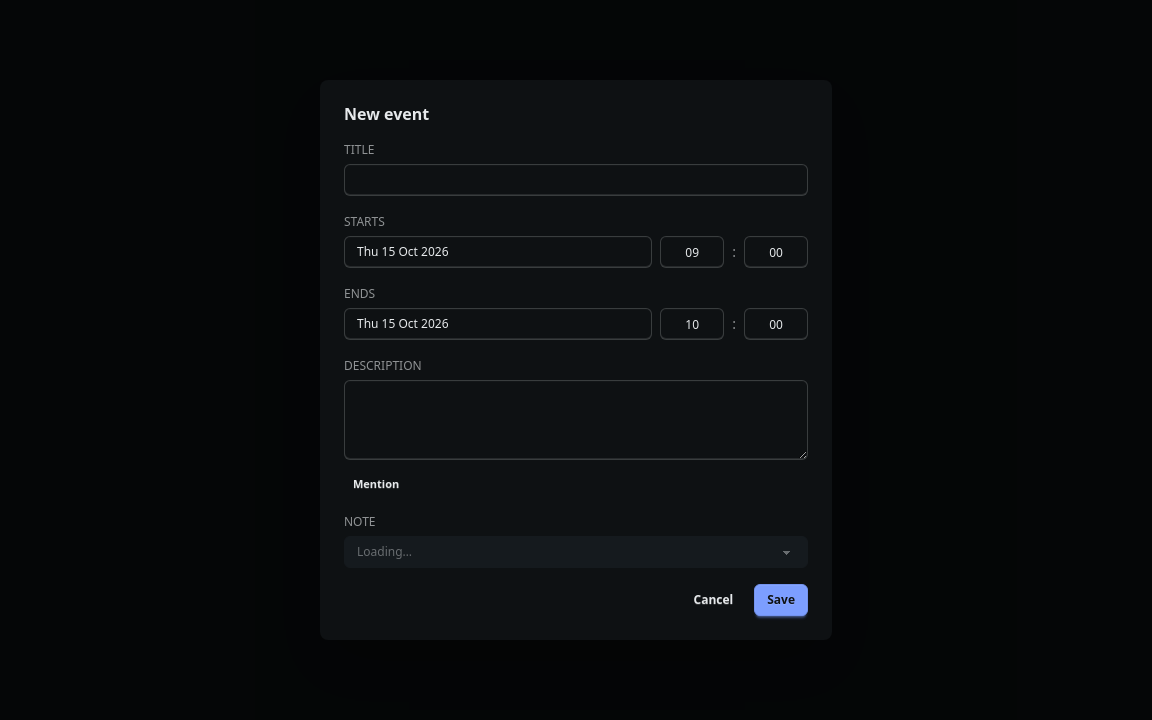
EventForm › inserts a mention token into the description at the caret
This screenshot has width=1152, height=720.
Type "Meet  now" into the text box labelled "Description" at (576, 420), box [344,380,808,460]
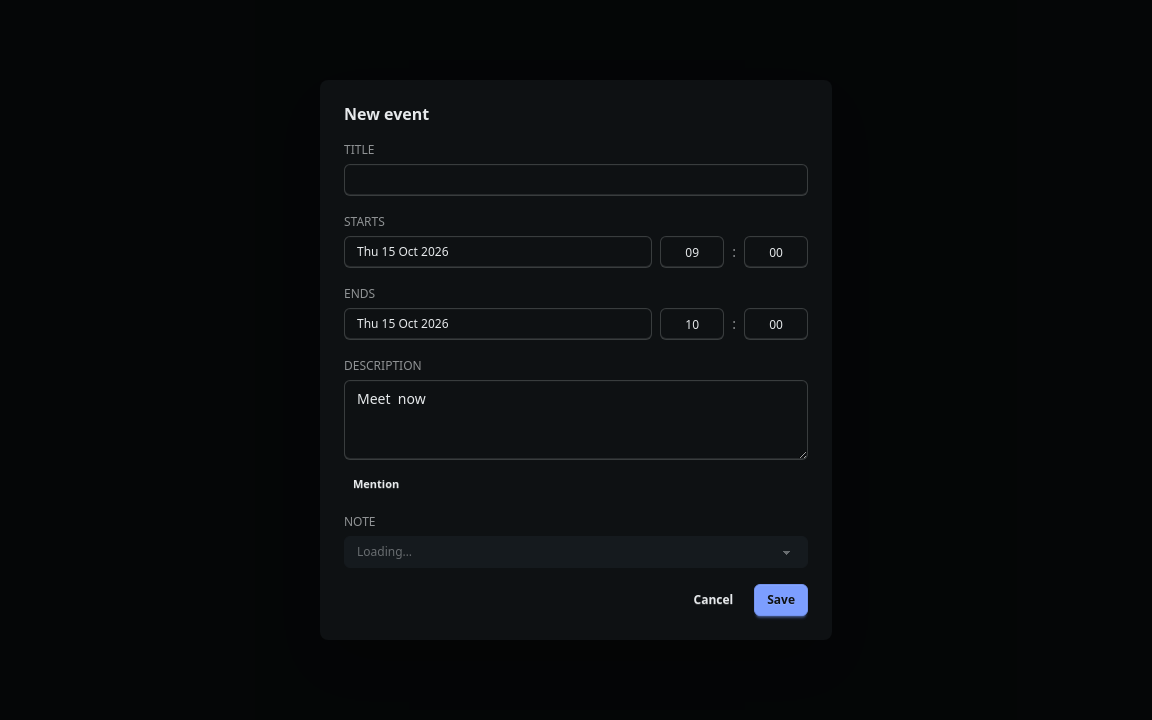
Click the button "Mention" at (376, 484), box [344,472,408,496]
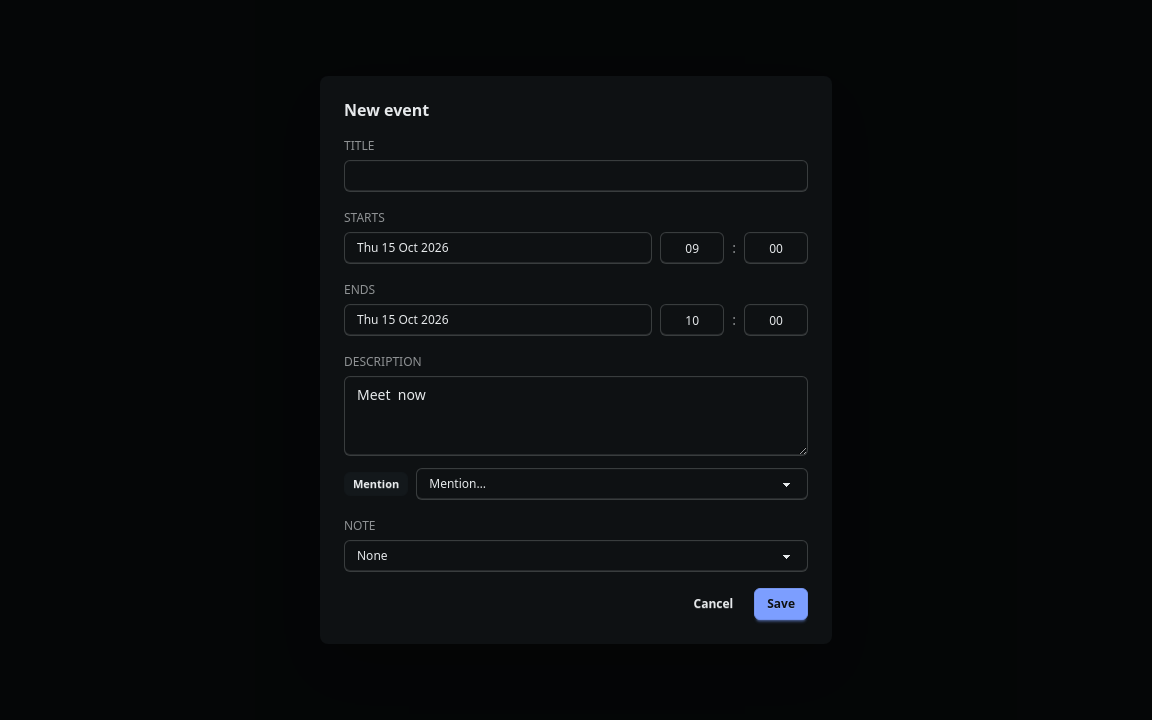
Select "Buy keyboard" in the dropdown named "Insert mention" at (612, 484), box [416,468,808,500]
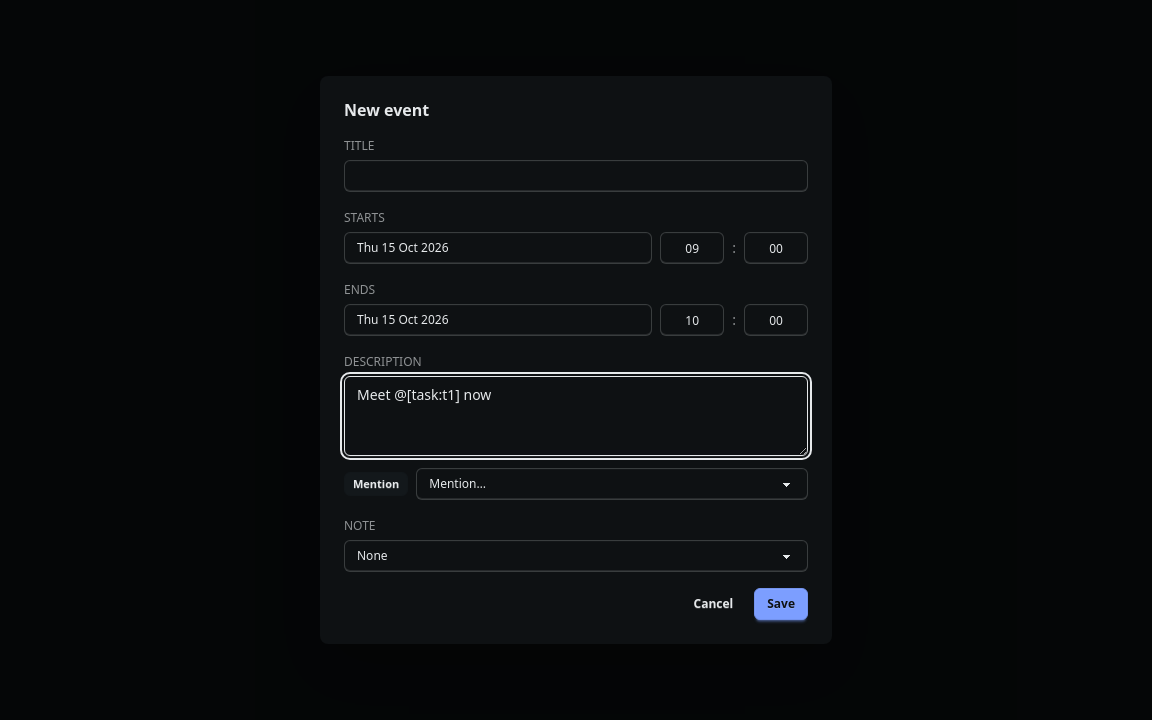
expect the text box labelled "Description" holds "Meet @[task:t1] now": met, box [344,376,808,456]
